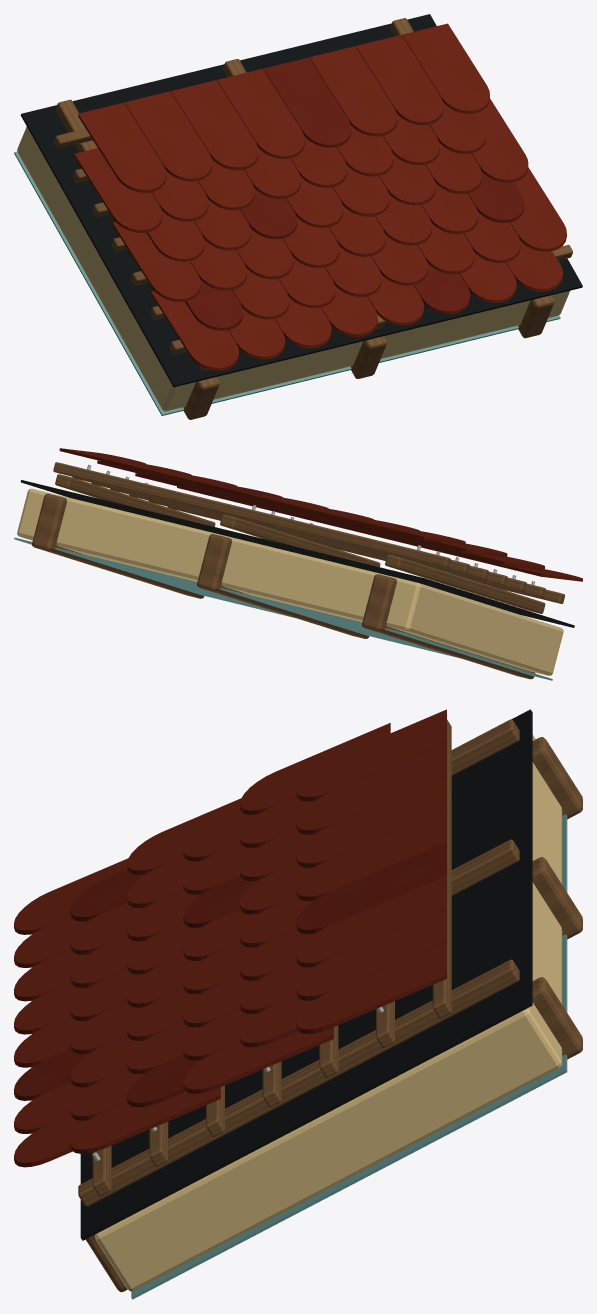
File: modell.glb
The picture shows the model from 3 angles, top to bottom: view 1: azimuth 30°, elevation 25°; view 2: azimuth 150°, elevation 25°; view 3: azimuth 270°, elevation 25°; orthographic projection. The views are drawn at different scales.
Visible parts, largest first — view 1: s01-deckziegel_deckung, s01-zusatzebene_zusatzebene, s01-daemmung_daemmung, s01-deckziegel_deckung.001, s01-lattung_lattung, s01-sparren_tragwerk, s01-luftdichtheit_luftdichtheit; view 2: s01-daemmung_daemmung, s01-lattung_lattung, s01-deckziegel_deckung, s01-sparren_tragwerk, s01-luftdichtheit_luftdichtheit, s01-zusatzebene_zusatzebene, s01-deckziegel_deckung.001; view 3: s01-deckziegel_deckung, s01-daemmung_daemmung, s01-zusatzebene_zusatzebene, s01-lattung_lattung, s01-deckziegel_deckung.001, s01-sparren_tragwerk, s01-luftdichtheit_luftdichtheit.
Boxes of the visible parts, <box> form: s01-deckziegel_deckung: <box>74,23,566,370</box>; s01-zusatzebene_zusatzebene: <box>20,14,582,387</box>; s01-daemmung_daemmung: <box>17,126,569,411</box>; s01-deckziegel_deckung.001: <box>185,57,524,330</box>; s01-lattung_lattung: <box>54,18,572,370</box>; s01-sparren_tragwerk: <box>183,295,554,419</box>; s01-luftdichtheit_luftdichtheit: <box>14,151,560,415</box>; s01-daemmung_daemmung: <box>17,488,563,675</box>; s01-lattung_lattung: <box>53,462,564,613</box>; s01-deckziegel_deckung: <box>59,448,582,581</box>; s01-sparren_tragwerk: <box>32,493,535,679</box>; s01-luftdichtheit_luftdichtheit: <box>14,537,552,680</box>; s01-zusatzebene_zusatzebene: <box>20,480,574,627</box>; s01-deckziegel_deckung.001: <box>139,474,541,569</box>; s01-deckziegel_deckung: <box>14,709,446,1167</box>; s01-daemmung_daemmung: <box>94,735,562,1291</box>; s01-zusatzebene_zusatzebene: <box>80,709,532,1240</box>; s01-lattung_lattung: <box>78,719,519,1206</box>; s01-deckziegel_deckung.001: <box>14,842,446,1107</box>; s01-sparren_tragwerk: <box>85,737,582,1292</box>; s01-luftdichtheit_luftdichtheit: <box>131,814,567,1299</box>.
Bounding box in the file's own units: 1.59 × 0.8379 × 1.3.
Materials: 7 (3 with a texture image).
